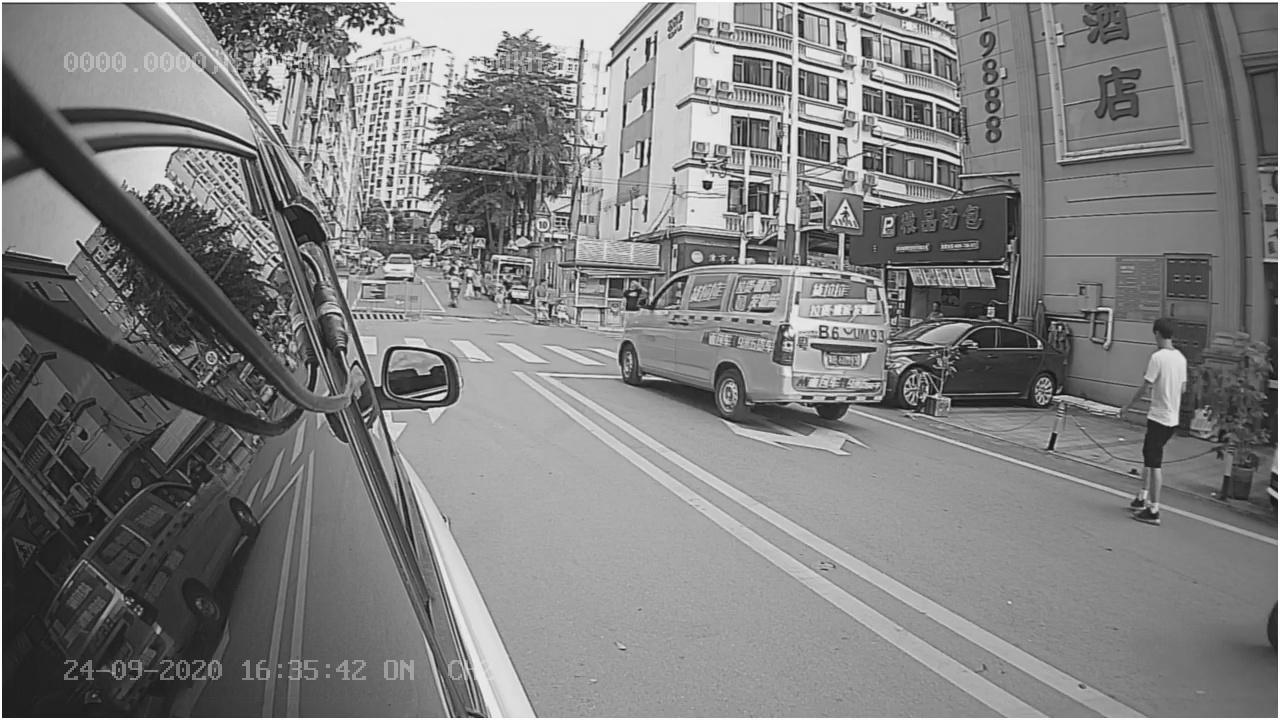person: (1106, 301, 1204, 548)
